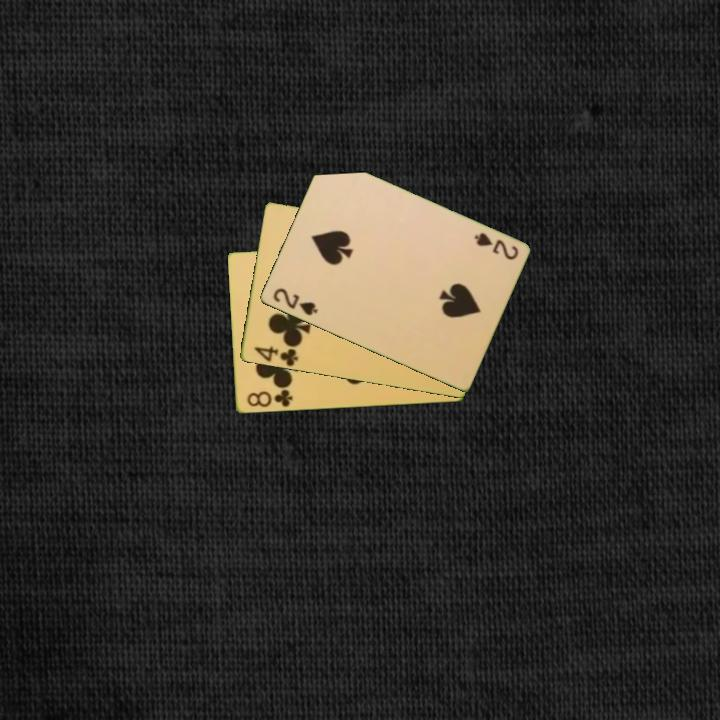2s: (269, 285, 320, 319), (470, 229, 521, 263)
4c: (250, 343, 301, 368)
8c: (243, 385, 295, 410)
